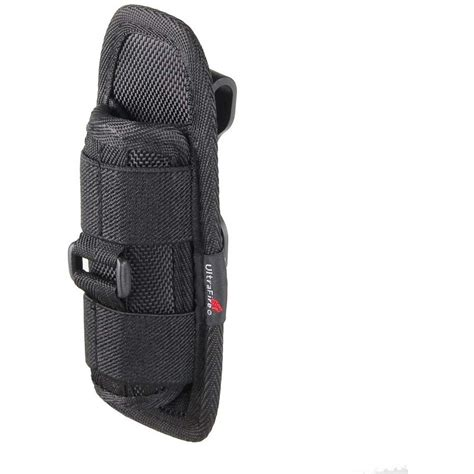nylon: (68, 3, 235, 445)
